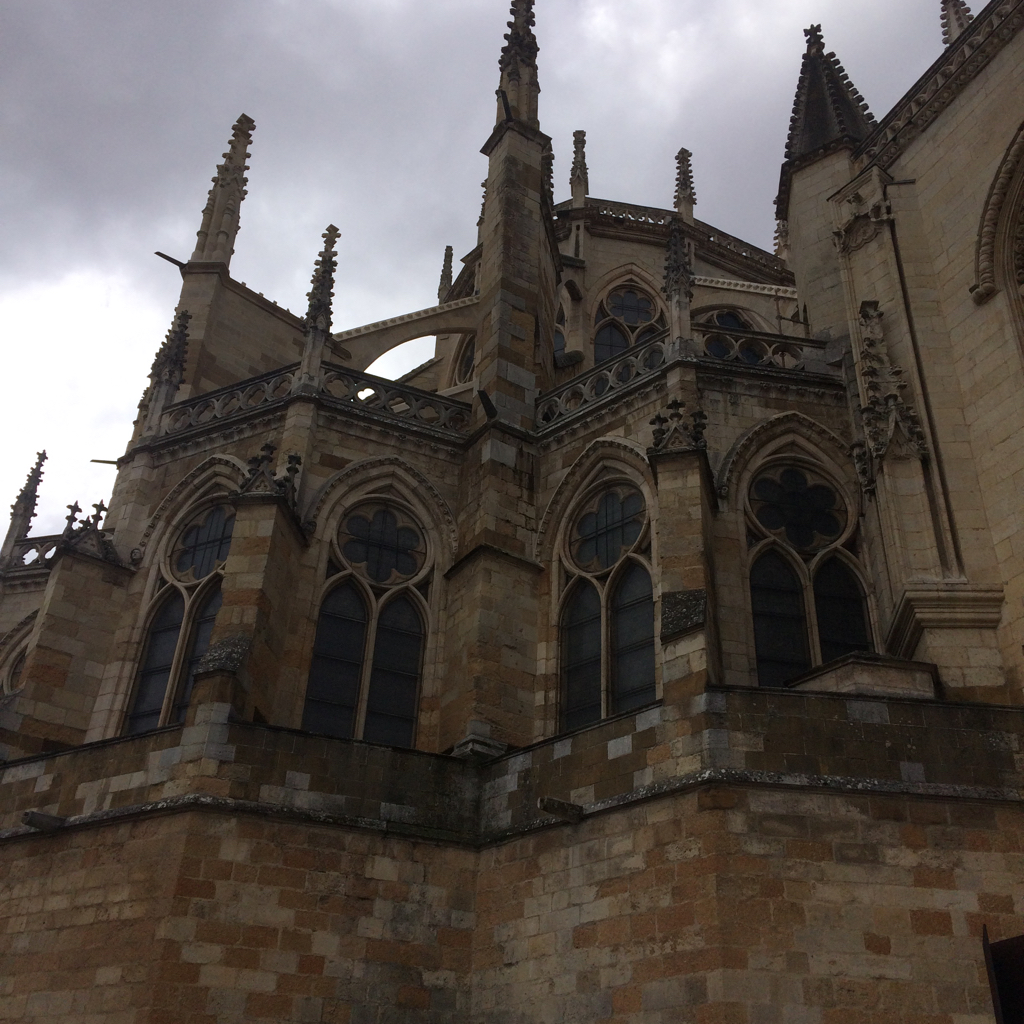arco-apuntado: (311, 459, 446, 569), (726, 409, 866, 512), (534, 435, 657, 542), (146, 451, 243, 564), (590, 261, 664, 328)
pinaculo-gotico: (781, 22, 876, 163), (183, 108, 260, 252), (492, 1, 546, 85), (8, 444, 51, 527), (308, 220, 348, 296), (668, 142, 704, 212), (567, 125, 592, 198)
